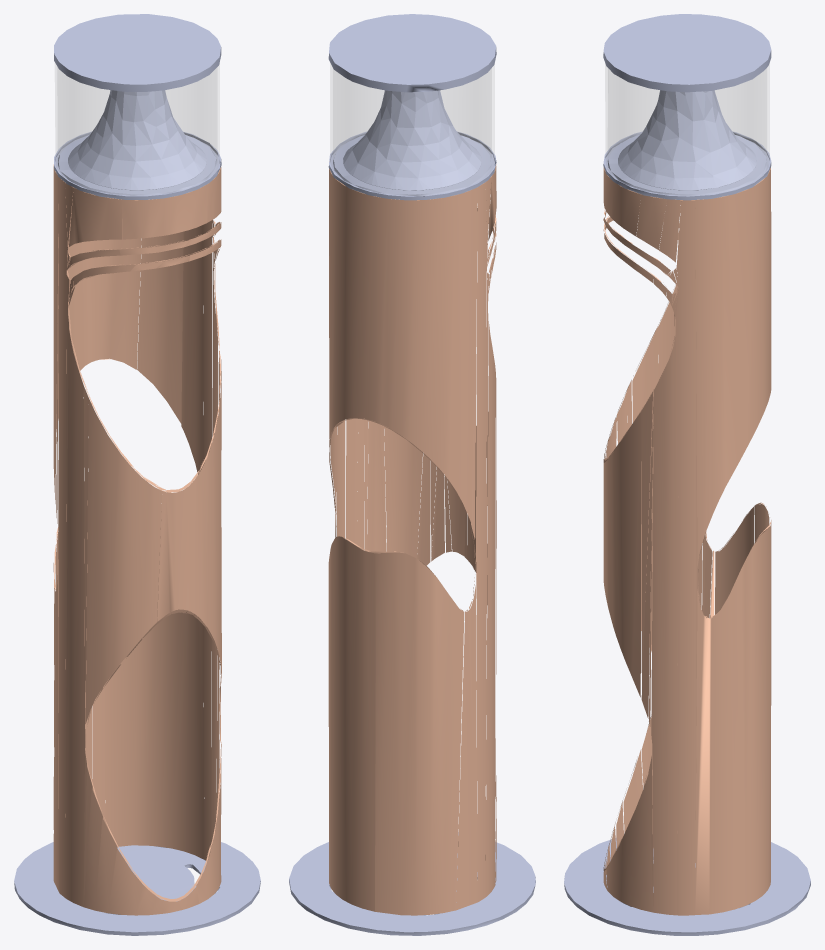
The model's file is poste.glb.
The picture shows the model from 3 angles, left to right: view 1: azimuth 30°, elevation 25°; view 2: azimuth 150°, elevation 25°; view 3: azimuth 270°, elevation 25°; orthographic projection.
Visible parts, largest first — view 1: Modelação teste 200-1, CilindrosExterior200-250-2, Difusor solidworks.stp-1; view 2: Modelação teste 200-1, CilindrosExterior200-250-2, Difusor solidworks.stp-1; view 3: Modelação teste 200-1, CilindrosExterior200-250-2, Difusor solidworks.stp-1.
Part boxes in pixels (x1,y1,x2,y2): Modelação teste 200-1: [53, 164, 221, 915]; CilindrosExterior200-250-2: [14, 14, 260, 935]; Difusor solidworks.stp-1: [68, 90, 206, 190]; Modelação teste 200-1: [328, 161, 496, 915]; CilindrosExterior200-250-2: [289, 14, 535, 935]; Difusor solidworks.stp-1: [343, 90, 481, 190]; Modelação teste 200-1: [603, 167, 771, 915]; CilindrosExterior200-250-2: [564, 14, 810, 935]; Difusor solidworks.stp-1: [618, 90, 756, 190].
Bounding box in the file's own units: 0.3002 × 1.12 × 0.3003.
